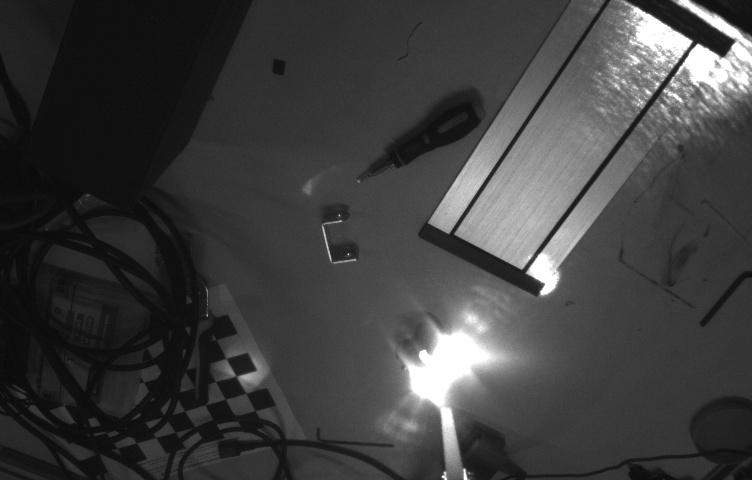Object rubber duck - Material rubber -Color blue - Pdfname BWuUnwTLudUE: (403, 328, 449, 393)
